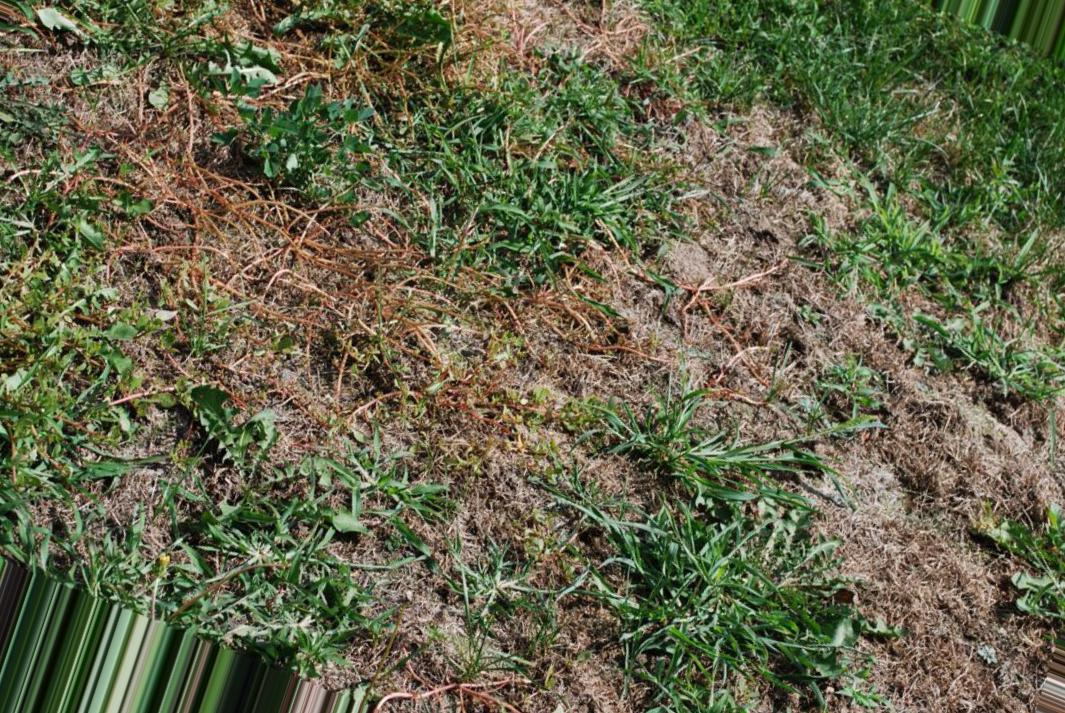patch: (254, 256, 511, 519), (826, 452, 991, 631), (399, 562, 536, 713), (709, 152, 828, 270), (658, 266, 795, 366), (477, 1, 542, 56)
